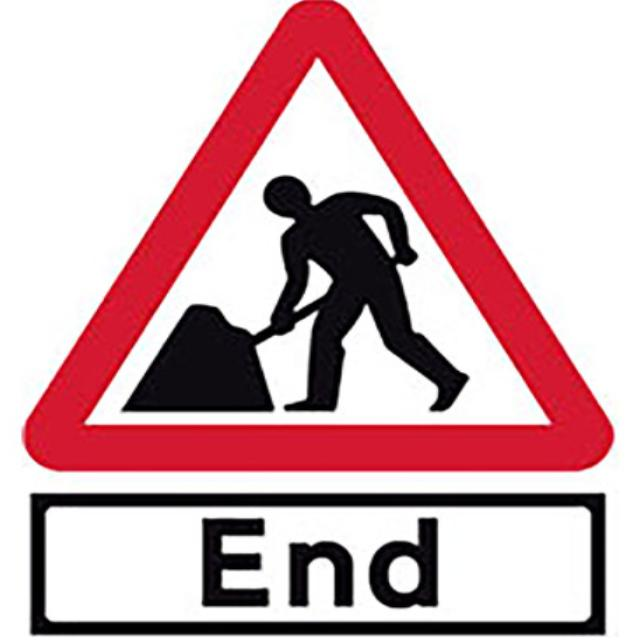WORKERS: (25, 1, 612, 470)
